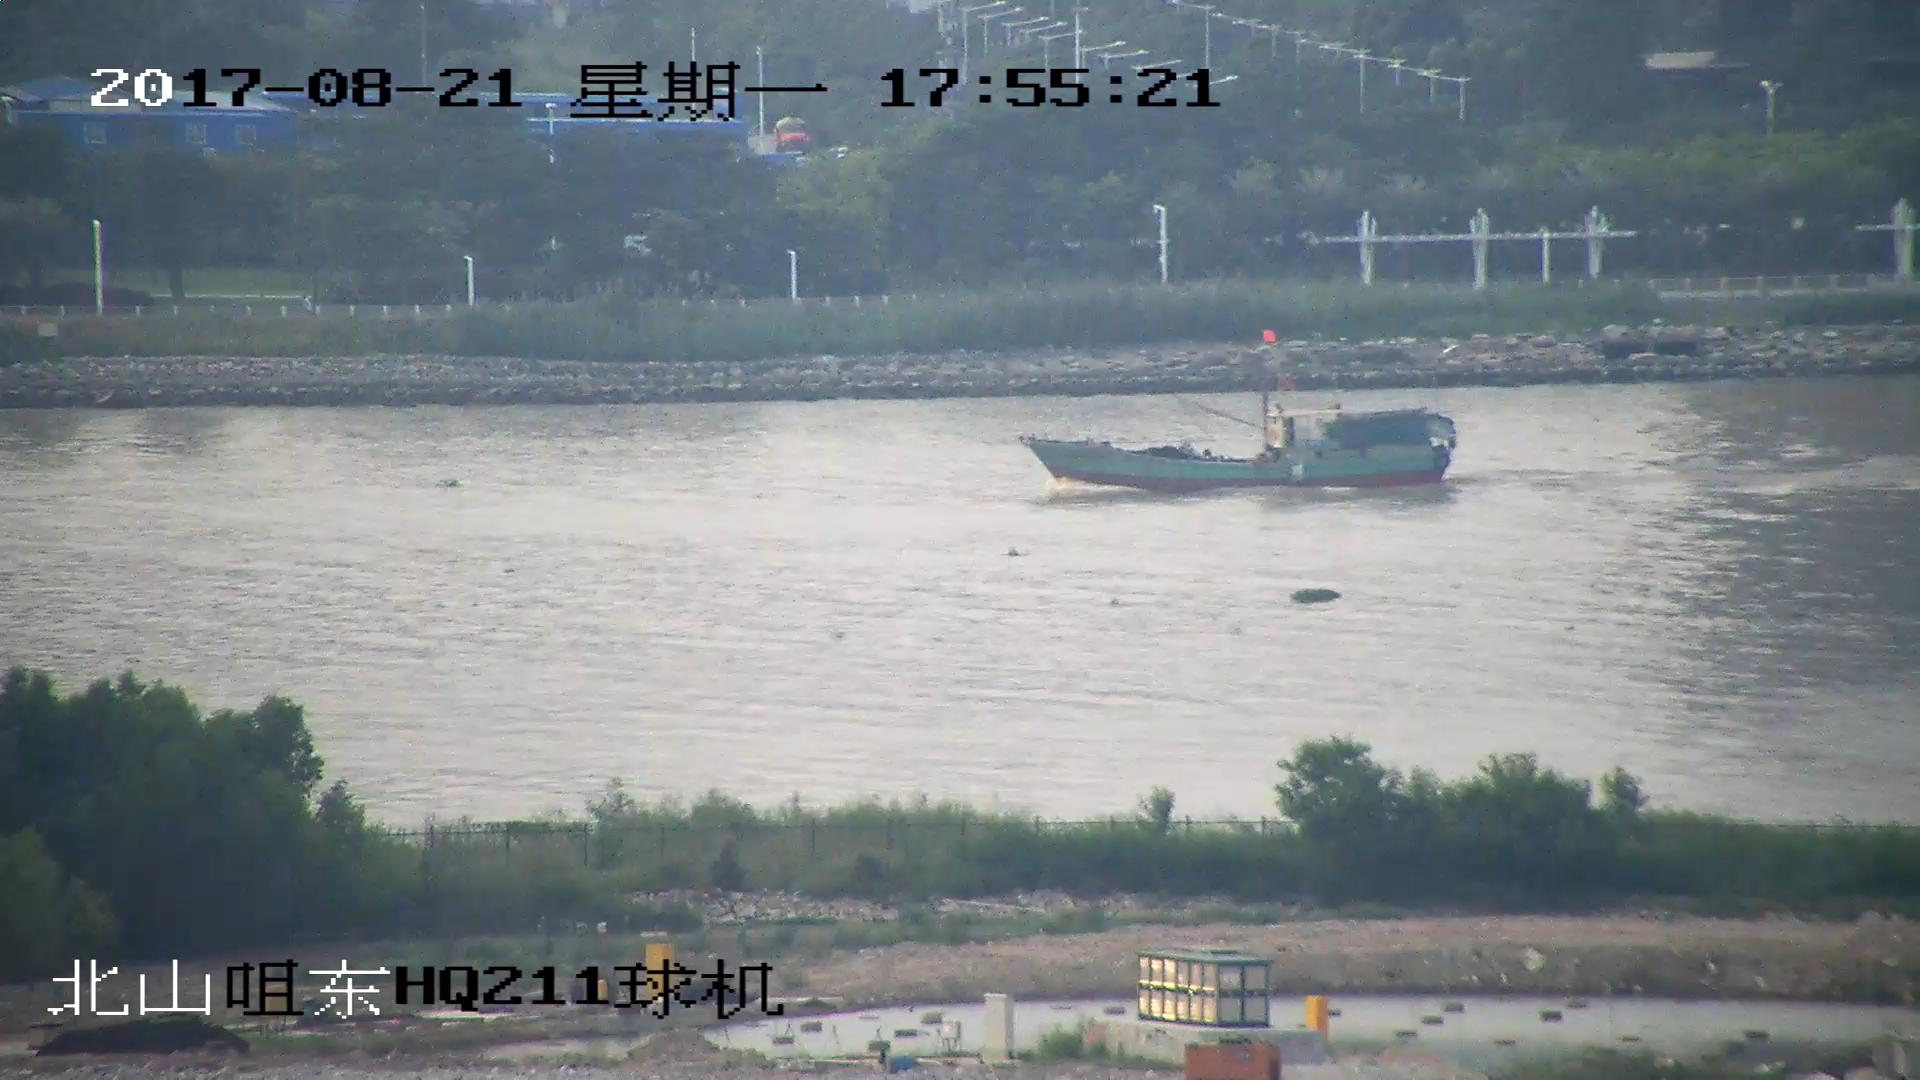fishing boat: (1028, 329, 1456, 496)
